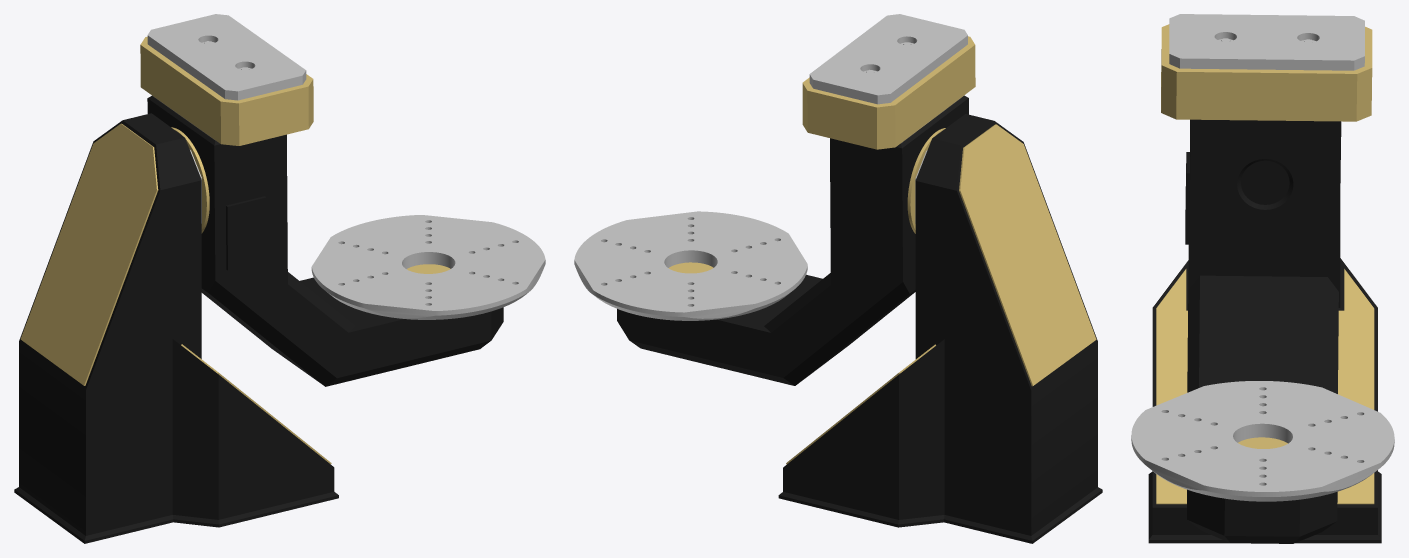
Rendered from worker_piece_positioner.glb.
The picture shows the model from 3 angles, left to right: view 1: azimuth 30°, elevation 25°; view 2: azimuth 150°, elevation 25°; view 3: azimuth 270°, elevation 25°; orthographic projection. The views are drawn at different scales.
Visible parts, largest first — view 1: Mesh [00rg], Mesh [00zg], Mesh [011g], Mesh [00sg], Mesh [010g], Mesh [00xg], Mesh [00ug]; view 2: Mesh [00rg], Mesh [00zg], Mesh [011g], Mesh [00sg], Mesh [00xg], Mesh [010g], Mesh [00ug]; view 3: Mesh [00zg], Mesh [011g], Mesh [010g], Mesh [00xg], Mesh [00tg], Mesh [00rg], Mesh [00yg].
Part boxes in pixels (x1=…): Mesh [00rg]: x1=14, y1=113, x2=338, y2=543; Mesh [00zg]: x1=147, y1=96, x2=503, y2=386; Mesh [011g]: x1=311, y1=215, x2=545, y2=319; Mesh [00sg]: x1=20, y1=123, x2=158, y2=385; Mesh [010g]: x1=140, y1=36, x2=313, y2=145; Mesh [00xg]: x1=147, y1=14, x2=306, y2=100; Mesh [00ug]: x1=171, y1=127, x2=209, y2=233; Mesh [00rg]: x1=778, y1=114, x2=1102, y2=543; Mesh [00zg]: x1=617, y1=95, x2=968, y2=385; Mesh [011g]: x1=574, y1=211, x2=807, y2=320; Mesh [00sg]: x1=959, y1=124, x2=1096, y2=386; Mesh [00xg]: x1=809, y1=14, x2=967, y2=104; Mesh [010g]: x1=802, y1=36, x2=975, y2=149; Mesh [00ug]: x1=907, y1=128, x2=945, y2=233; Mesh [00zg]: x1=1185, y1=119, x2=1341, y2=543; Mesh [011g]: x1=1131, y1=381, x2=1394, y2=501; Mesh [010g]: x1=1161, y1=24, x2=1372, y2=121; Mesh [00xg]: x1=1169, y1=14, x2=1364, y2=70; Mesh [00tg]: x1=1156, y1=269, x2=1374, y2=504; Mesh [00rg]: x1=1148, y1=120, x2=1381, y2=543; Mesh [00yg]: x1=1238, y1=437, x2=1287, y2=448.
Size of the model in its own units: 1.66 by 1.39 by 0.7001.
